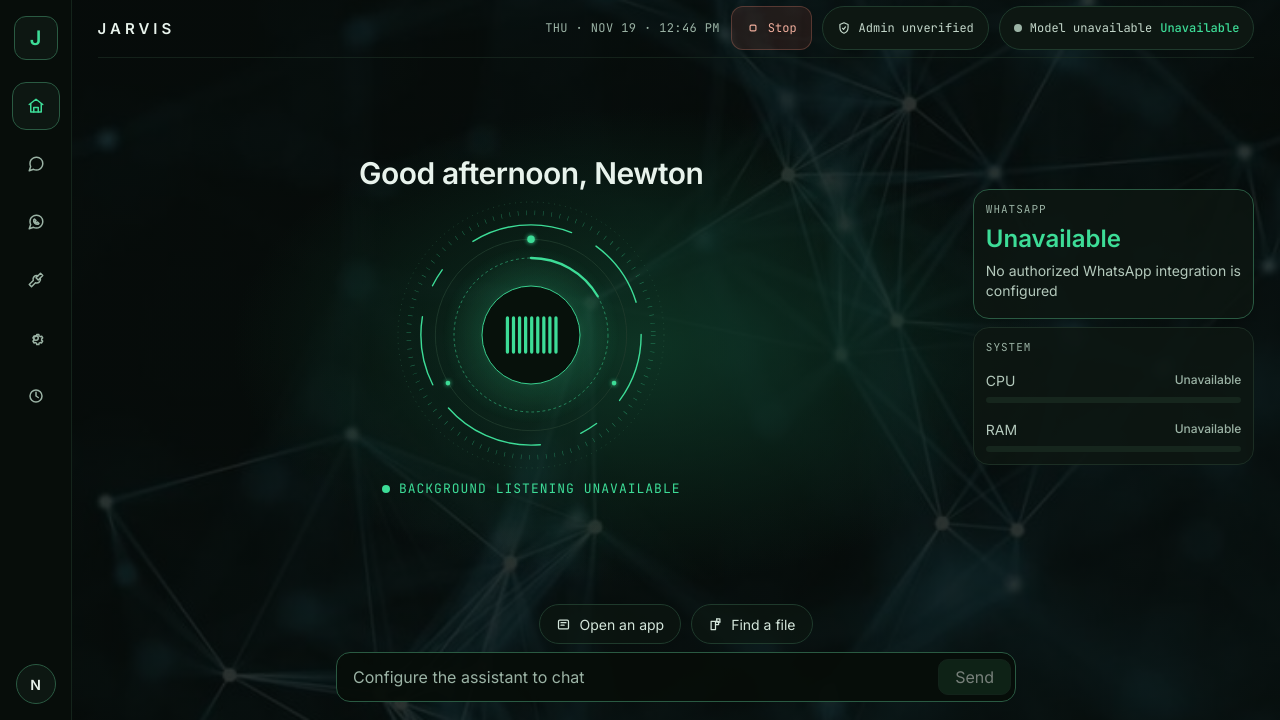
Test case: JARVIS voice-first home › sends a typed message to the existing assistant chat endpoint
Type "Hello Jarvis" into the field named "Message JARVIS". click: point(636, 677)
box: top-left (341, 657), bottom-right (930, 697)
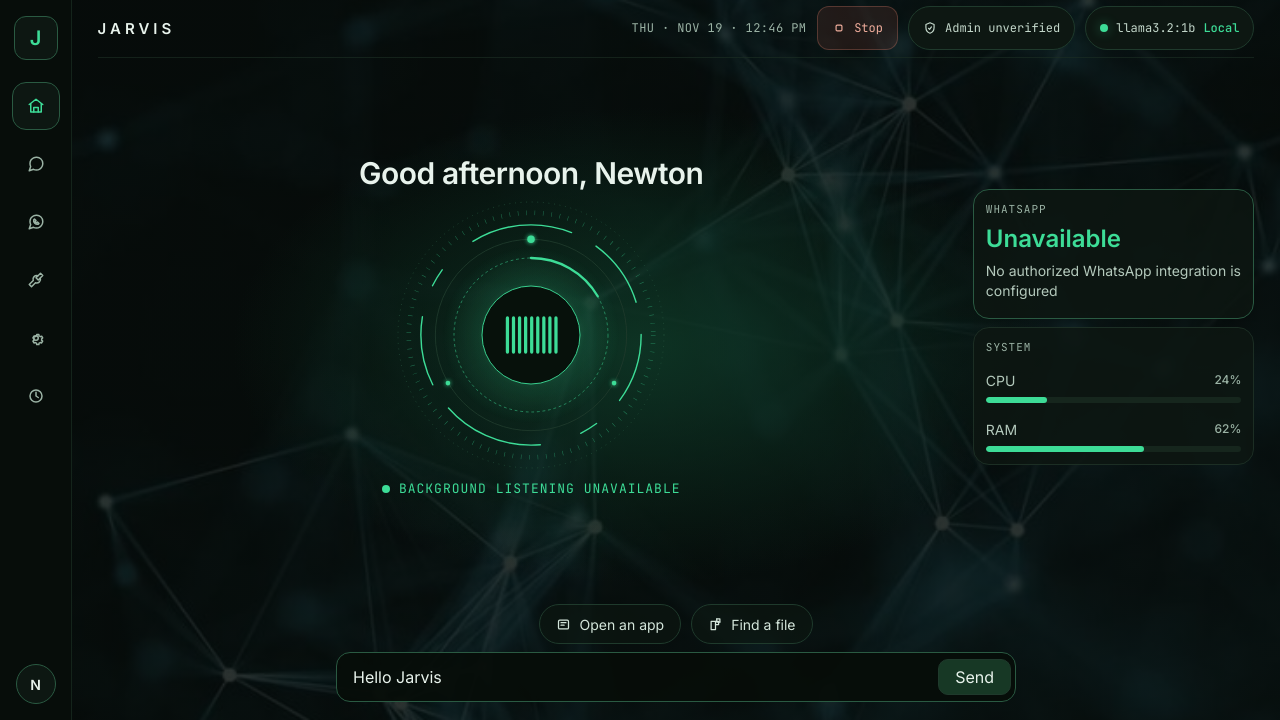
Click the button "Send". click: point(975, 677)
box: top-left (938, 659), bottom-right (1011, 695)
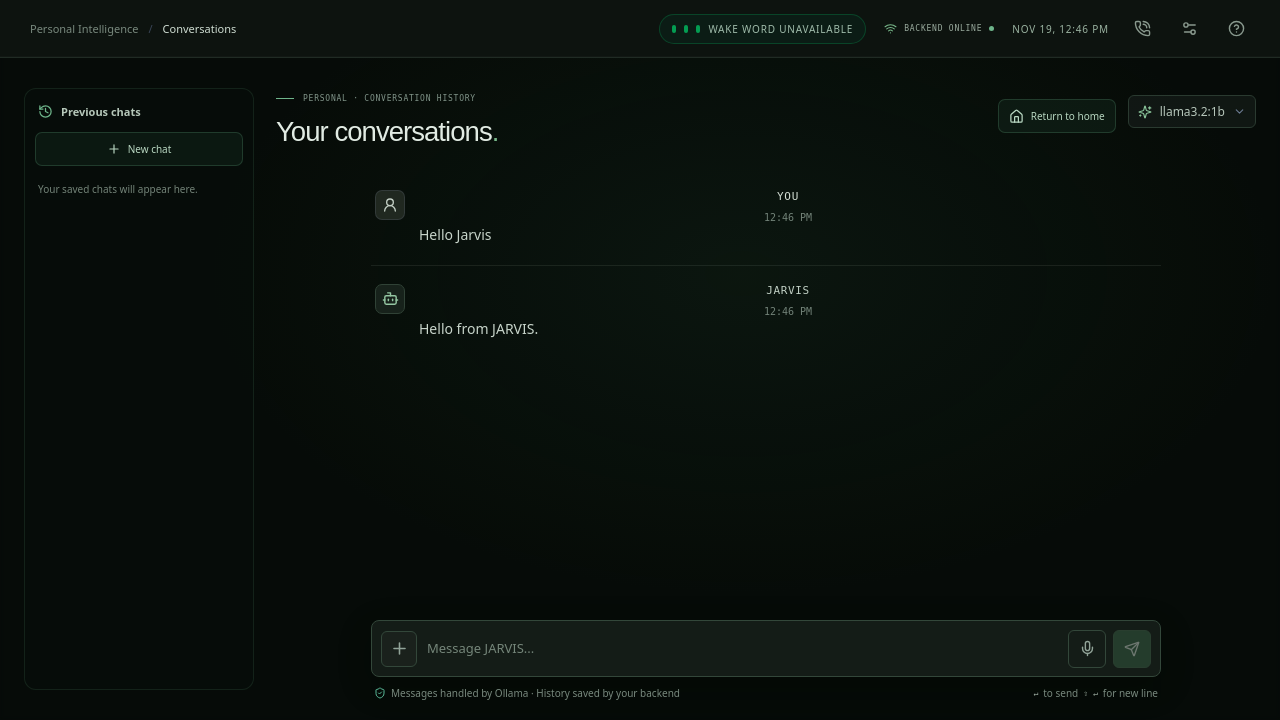
Check: the heading named "Your conversations ." is shown, box top-left (276, 116), bottom-right (498, 148)
Check: the text "Hello from JARVIS." is shown, box top-left (419, 319), bottom-right (538, 338)
